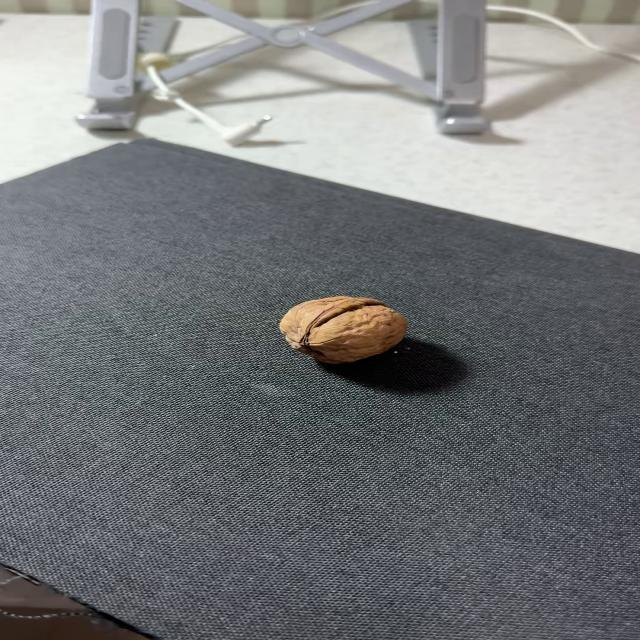nuts-good: (280, 296, 407, 364)
